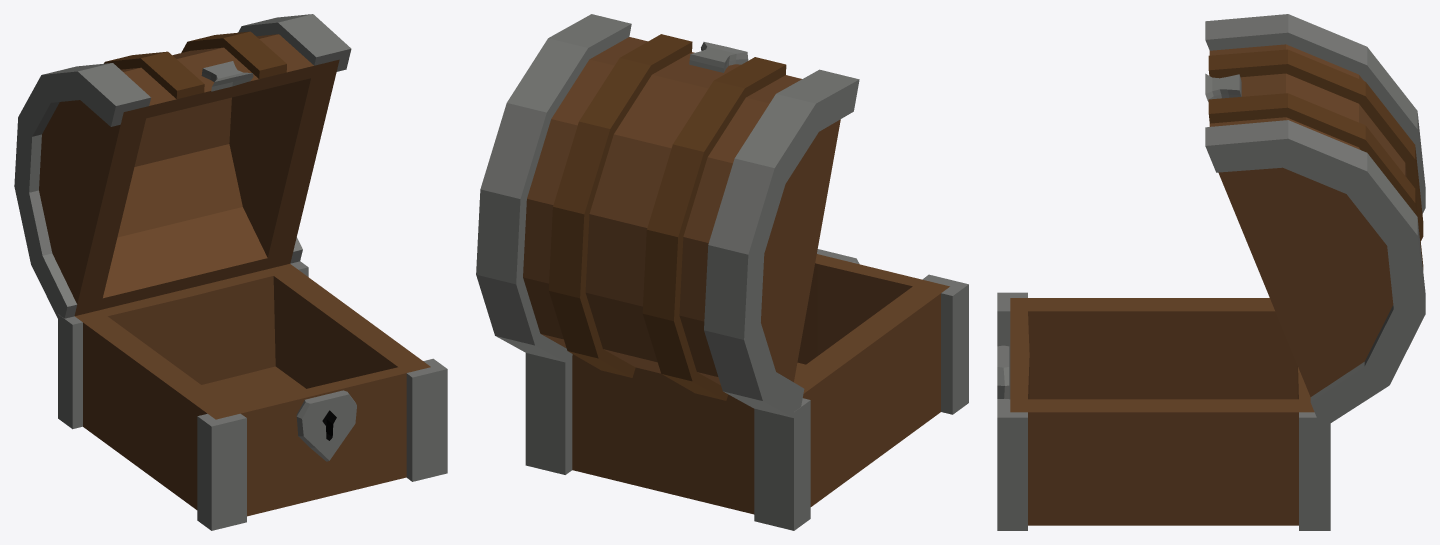
The model's file is Wooden_chest_open.glb.
The picture shows the model from 3 angles, left to right: view 1: azimuth 30°, elevation 25°; view 2: azimuth 150°, elevation 25°; view 3: azimuth 270°, elevation 25°; orthographic projection. The views are drawn at different scales.
Parts seen in each view (by area): view 1: Woode chest_open; view 2: Woode chest_open; view 3: Woode chest_open.
Part boxes in pixels (left/top/right/bottom): Woode chest_open: left=14, top=14, right=447, bottom=530; Woode chest_open: left=476, top=14, right=968, bottom=530; Woode chest_open: left=997, top=14, right=1425, bottom=530.
Bounding box in the file's own units: 0.0971 × 0.142 × 0.1407.
Materials: 1 (1 with a texture image).
